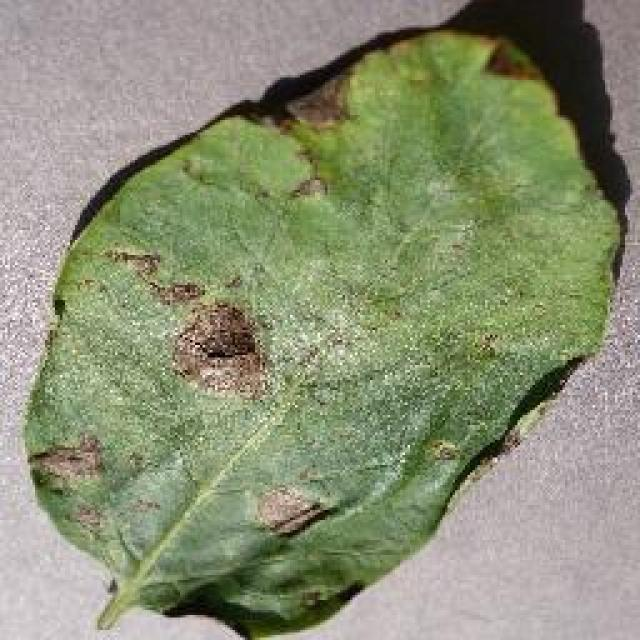early_blight: (17, 20, 625, 638)
